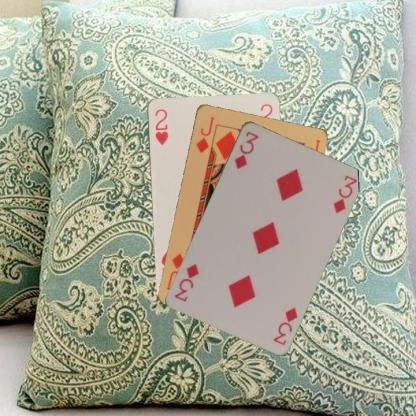2h: (152, 106, 169, 146)
3d: (270, 304, 299, 347), (231, 128, 260, 170)
Jd: (193, 114, 215, 154)
